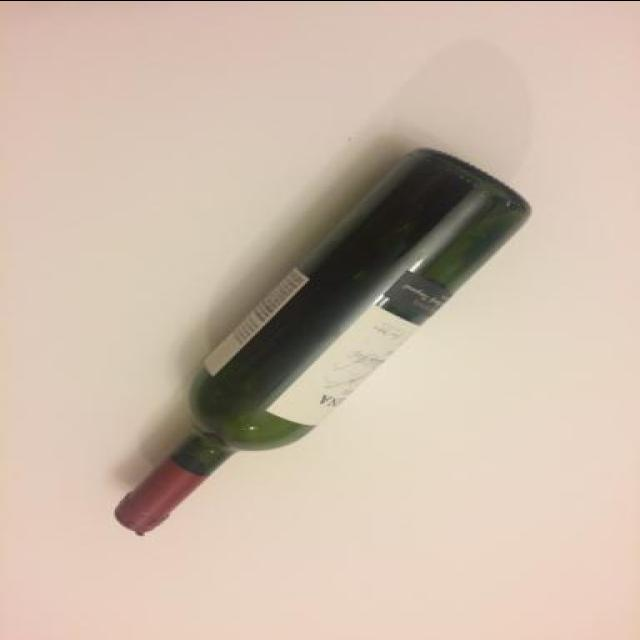glass: (103, 125, 551, 544)
